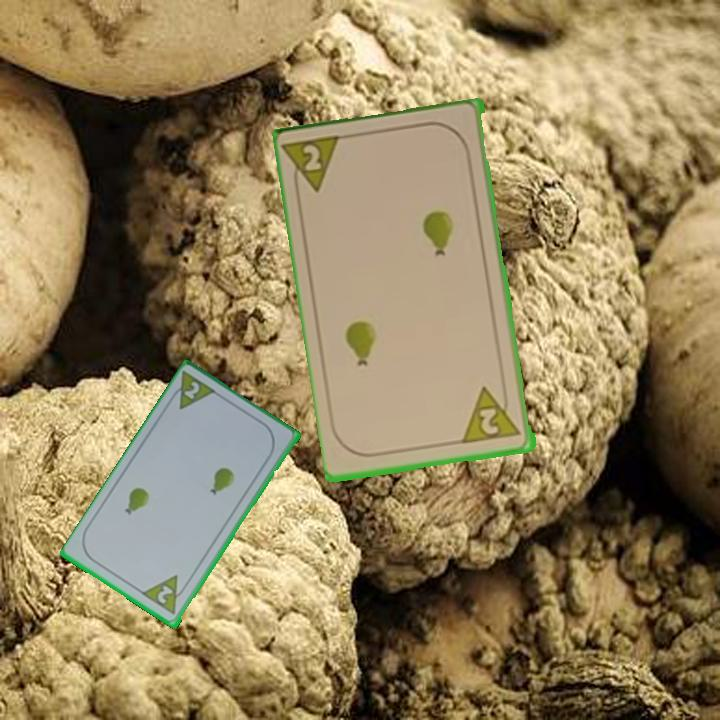2p: (282, 132, 347, 200), (461, 381, 526, 447), (165, 368, 221, 413), (153, 582, 176, 607)
